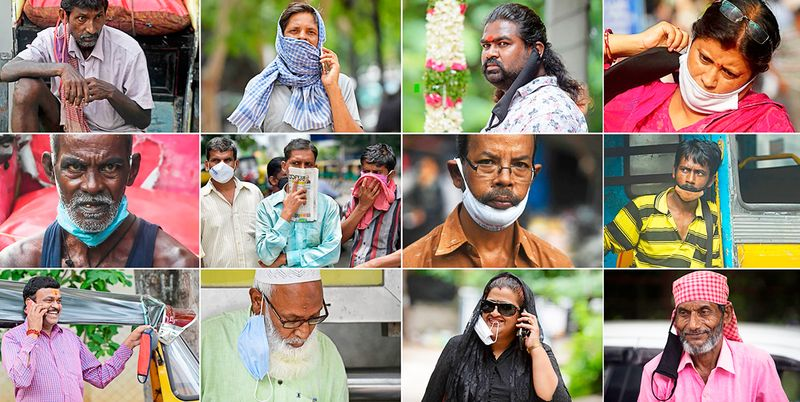with_incorrect_mask: (53, 140, 128, 243), (246, 287, 321, 376), (458, 138, 533, 226), (479, 28, 539, 105), (660, 304, 727, 367), (478, 287, 524, 345), (282, 14, 319, 67), (675, 157, 708, 203)
with_mask: (357, 164, 395, 201), (204, 150, 237, 183)
without_mask: (68, 8, 106, 47), (32, 288, 66, 328)
